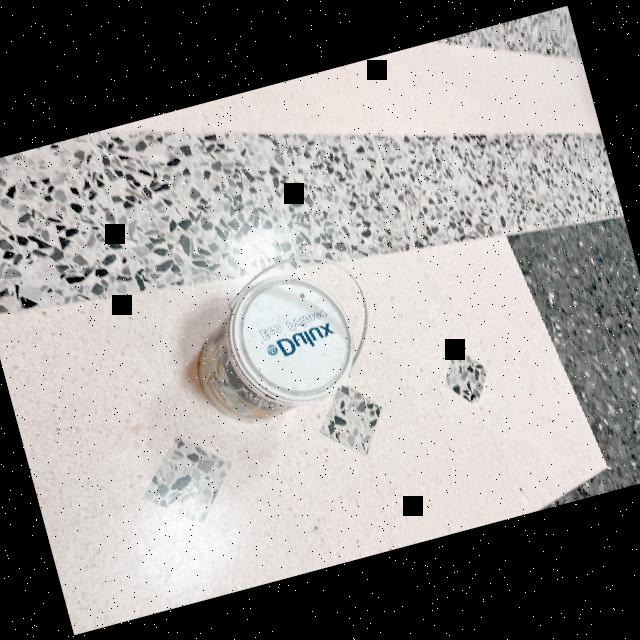paint_bucket: (164, 224, 410, 446)
